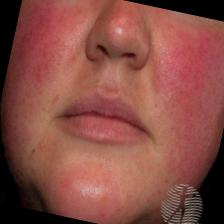Sensitif: (6, 0, 224, 219)
